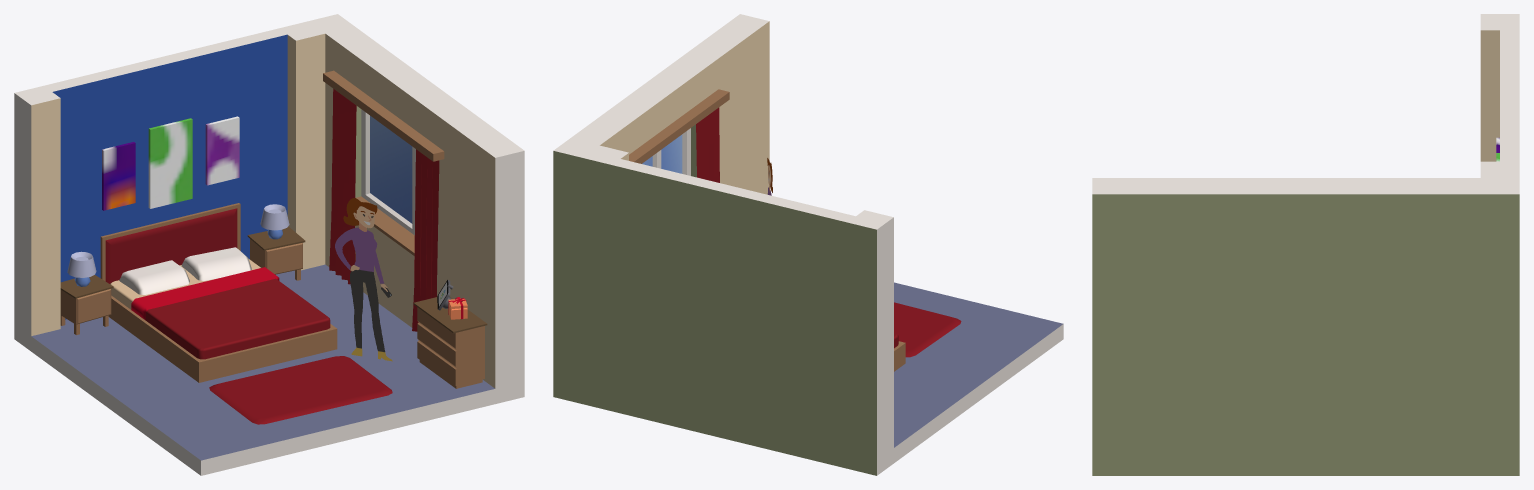
The model's file is SM_BedroomCharacter.gltf.
3 renders of one model, left to right at view 1: azimuth 30°, elevation 25°; view 2: azimuth 150°, elevation 25°; view 3: azimuth 270°, elevation 25°, orthographic. The views are drawn at different scales.
Parts seen in each view (by area): view 1: Plane.007, Plane.008, Plane.011, Plane.012, Bedroom_Character, Plane.009, Plane.010; view 2: Plane.007, Plane.008; view 3: Plane.007.
Part boxes in pixels (x1,y1,x2,y2): Plane.007: [14, 14, 524, 475]; Plane.008: [100, 203, 392, 424]; Plane.011: [102, 116, 239, 210]; Plane.012: [413, 296, 487, 388]; Bedroom_Character: [335, 198, 392, 361]; Plane.009: [60, 251, 113, 335]; Plane.010: [247, 204, 305, 280]; Plane.007: [553, 14, 1063, 475]; Plane.008: [894, 302, 961, 371]; Plane.007: [1092, 14, 1519, 475].
Size of the model in its own units: 4.4 by 3.2 by 4.4.
Materials: 2 (2 with a texture image).
